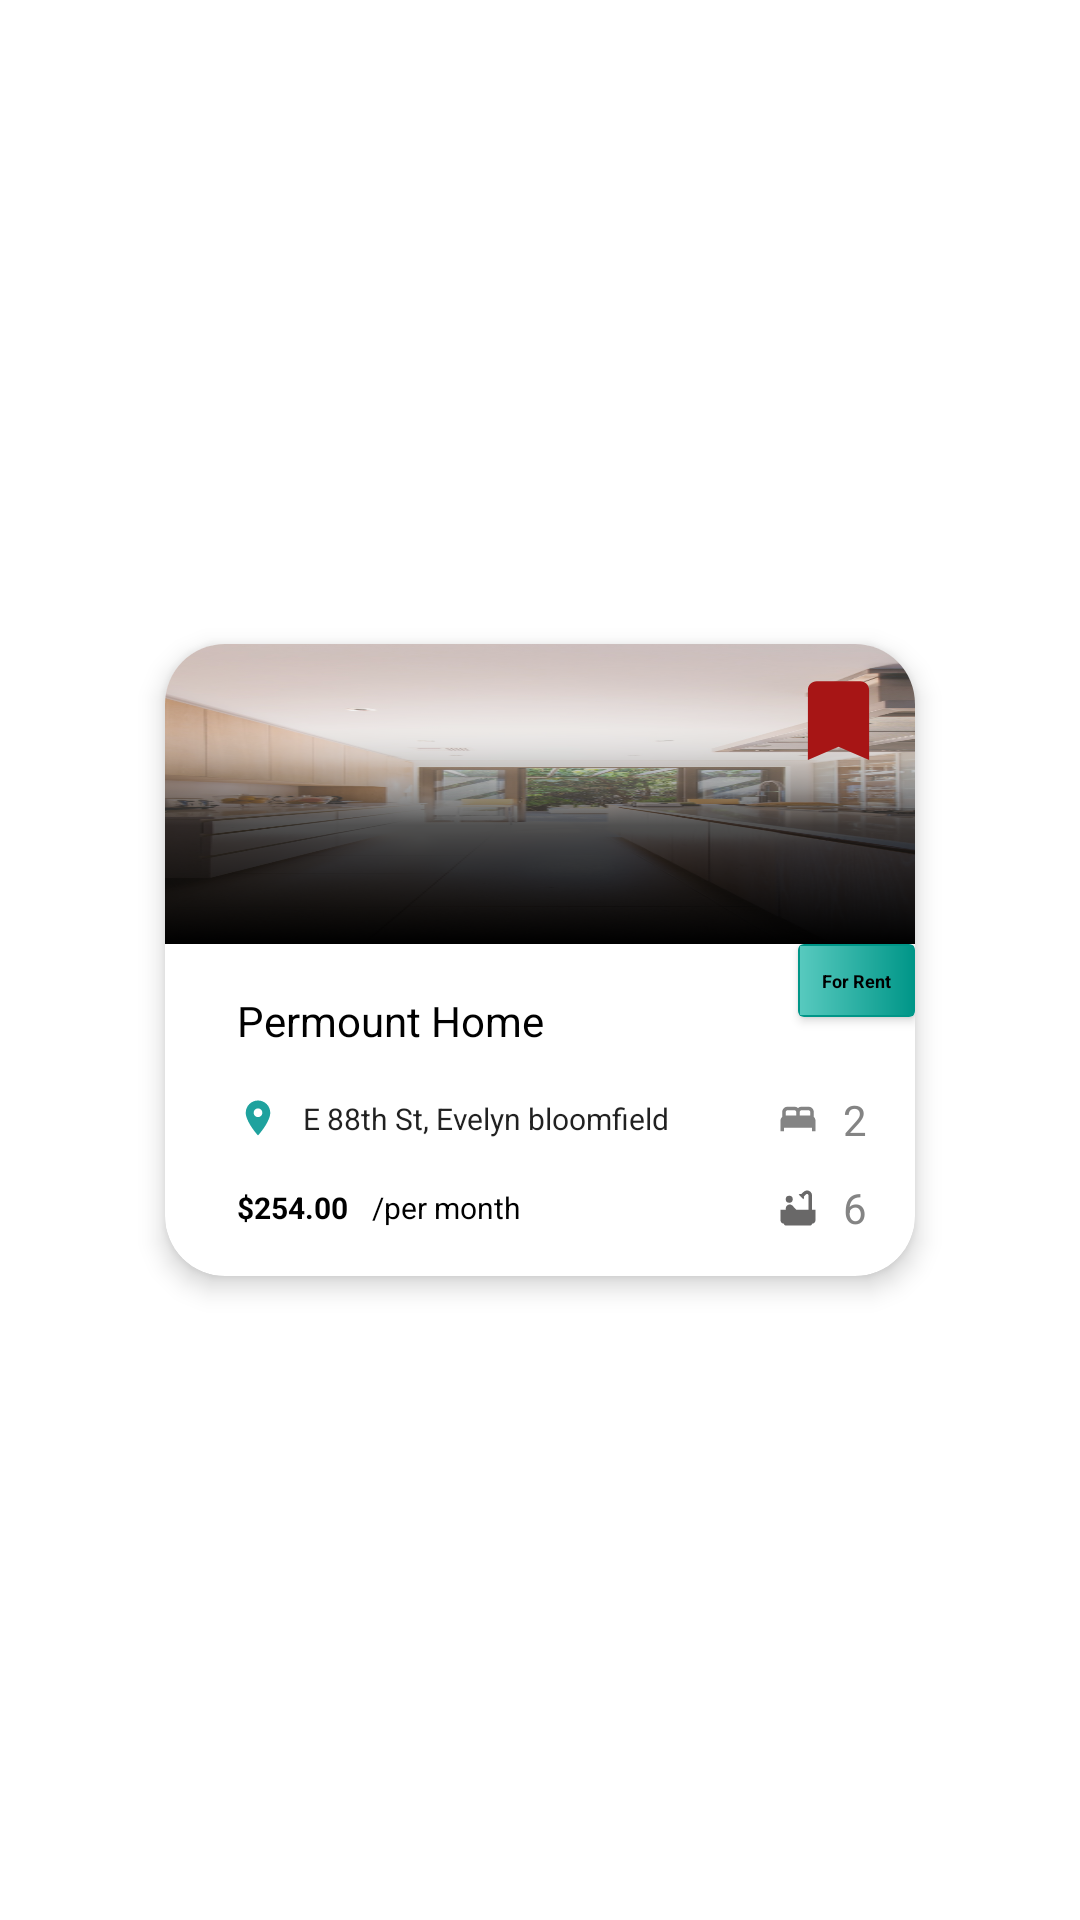

Icons on this 1080×1920 Android screen, each with its box as (x1=x1, y1=y1, x2=x2, y2=y2):
bathtub: (x1=780, y1=1190, x2=816, y2=1226)
bed: (x1=780, y1=1106, x2=816, y2=1132)
